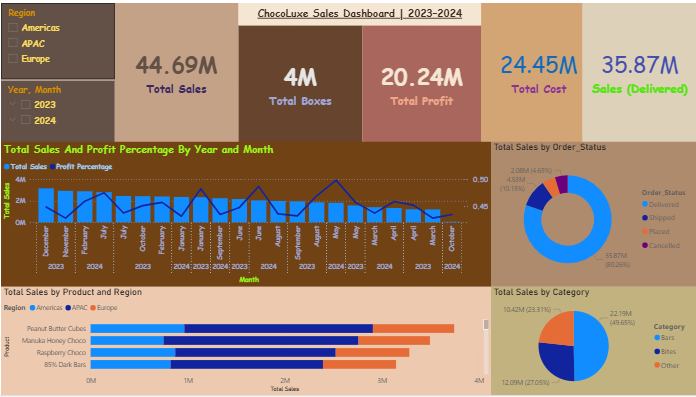

This screenshot's page, from the dashboard's own definition file:
{"tool":"powerbi","page":{"name":"Page 1","canvas":[1280,720],"ordinal":0},"visuals":[{"type":"card","fields":{"Values":["_Measures.Total Sales"]},"box":[209,0.7,227,255],"z":0},{"type":"card","fields":{"Values":["_Measures.Total Boxes"]},"box":[435.7,40.8,227.6,215.3],"z":1000},{"type":"card","fields":{"Values":["_Measures.Total Profit"]},"box":[663.3,40.8,218.4,215.3],"z":2000},{"type":"card","fields":{"Values":["_Measures.Total Cost"]},"box":[882,0.7,213,255],"z":3000},{"type":"card","fields":{"Values":["_Measures.Sales (Delivered)"]},"box":[1068,0.7,212,255],"z":4000},{"type":"slicer","fields":{"Values":["locations.Region"]},"box":[0,0.7,208.5,139.8],"z":5000},{"type":"slicer","fields":{"Values":["calendar.cal_date.Variation.Date Hierarchy.Year","calendar.cal_date.Variation.Date Hierarchy.Month"]},"box":[0,141.7,208.5,114.2],"z":6000},{"type":"lineClusteredColumnComboChart","title":"Total Sales And Profit Percentage By Year and Month","fields":{"Category":["calendar.year","calendar.month_name"],"Y":["_Measures.Total Sales"],"Y2":["_Measures.Profit Percentage"]},"box":[0,255.7,900,266],"z":7000},{"type":"donutChart","fields":{"Category":["shipments.Order_Status"],"Y":["_Measures.Total Sales"]},"box":[900,255.7,380,266],"z":8000},{"type":"barChart","fields":{"Category":["products.Product"],"Series":["locations.Region"],"Y":["_Measures.Total Sales"]},"box":[0,521,900,200],"z":9000},{"type":"pieChart","fields":{"Y":["_Measures.Total Sales"],"Category":["products.Category"]},"box":[900,521.7,380,199],"z":10000},{"type":"textbox","box":[435.7,0,445.9,40.8],"z":11000}]}

Visuals, with their boxes in screenshot pixels (x1, y1, x2, y2), scaled from the page's 1280x720 canvas onto the 696x397 screenshot:
card - _Measures.Total Sales: [114,0,237,141]
card - _Measures.Total Boxes: [237,22,361,141]
card - _Measures.Total Profit: [361,22,479,141]
card - _Measures.Total Cost: [480,0,595,141]
card - _Measures.Sales (Delivered): [581,0,695,141]
slicer - locations.Region: [0,0,113,77]
slicer - calendar.cal_date.Variation.Date Hierarchy.Year x calendar.cal_date.Variation.Date Hierarchy.Month: [0,78,113,141]
"Total Sales And Profit Percentage By Year and Month" lineClusteredColumnComboChart: [0,141,489,288]
donutChart - shipments.Order_Status x _Measures.Total Sales: [489,141,695,288]
barChart - products.Product x locations.Region: [0,287,489,396]
pieChart - _Measures.Total Sales x products.Category: [489,288,695,396]
textbox: [237,0,479,22]
